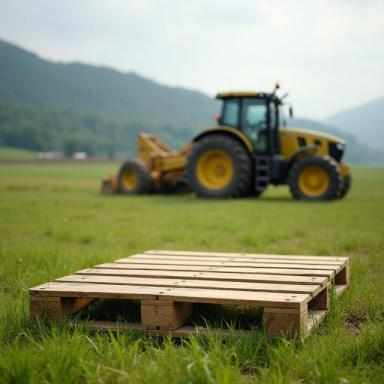pallet: (28, 249, 350, 348), (185, 302, 263, 331), (62, 299, 141, 323)
